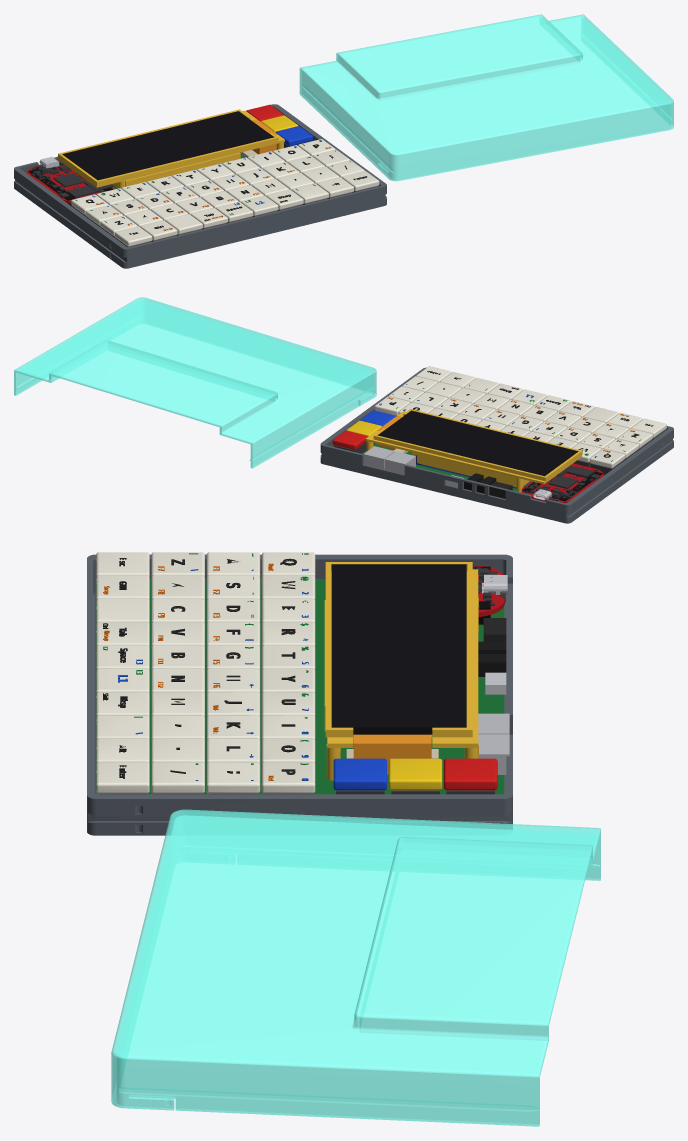
Rendered from beside_slate.glb.
3 renders of one model, top to bottom at view 1: azimuth 30°, elevation 25°; view 2: azimuth 150°, elevation 25°; view 3: azimuth 270°, elevation 25°, orthographic. The views are drawn at different scales.
Parts seen in each view (by area): view 1: Lid, Internals, Tray; view 2: Lid, Internals, Tray; view 3: Lid, Internals, Tray.
Part boxes in pixels (x1,y1,x2,y2): Lid: (299,14,673,181); Internals: (27,104,379,247); Tray: (14,104,386,268); Lid: (14,297,376,468); Internals: (332,366,666,502); Tray: (320,367,673,523); Lid: (111,809,600,1126); Internals: (95,552,509,794); Tray: (87,554,512,835).
Size of the model in its own units: 0.3903 by 0.0227 by 0.1583.
